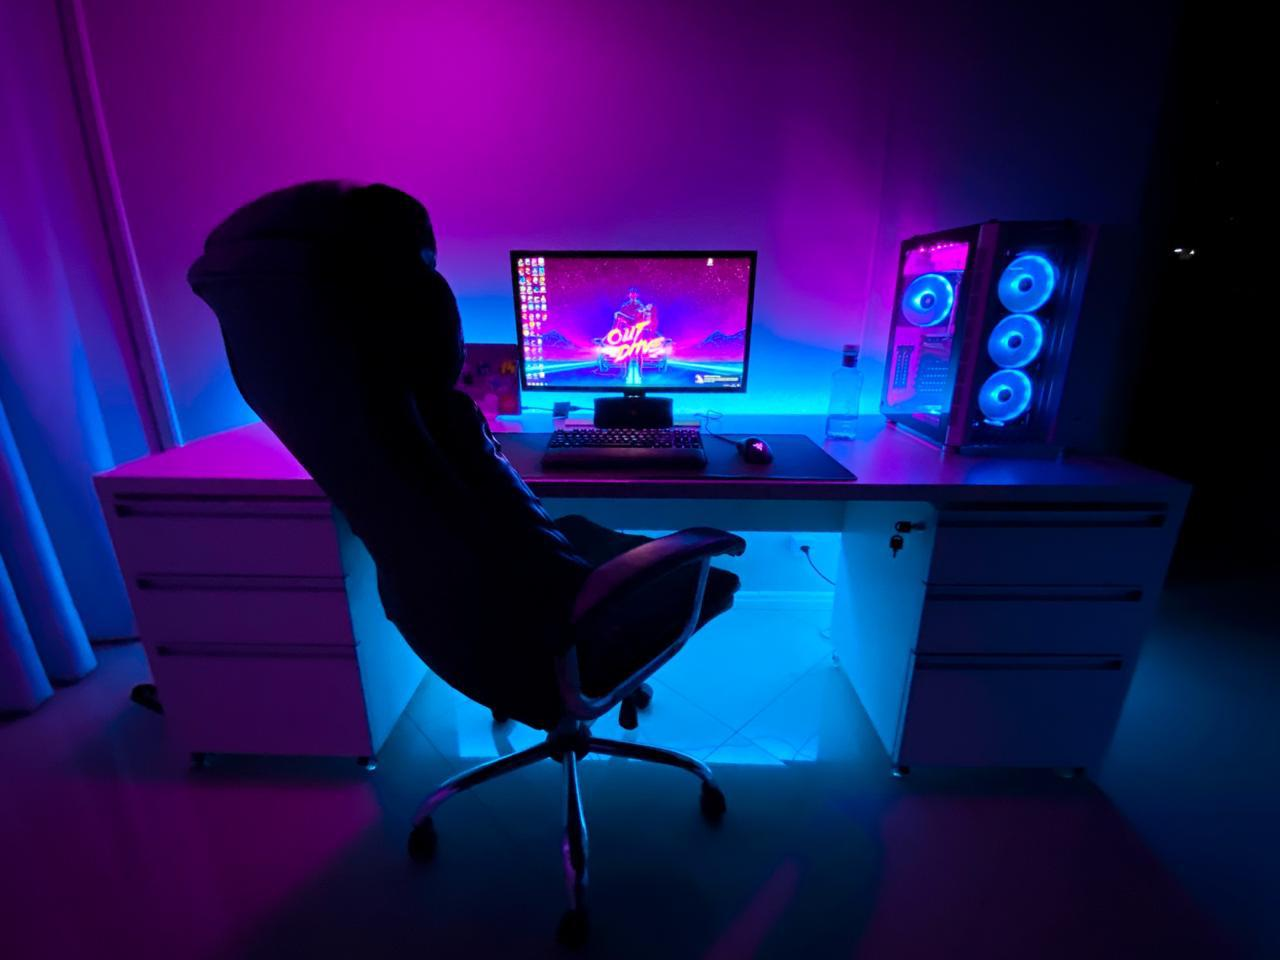Chair (Generic): (187, 174, 747, 944)
Desk (Generic): (94, 407, 1199, 795)
Desktop (Windows): (880, 220, 1096, 459)
Keyboard (Gaming): (538, 425, 706, 471)
Laptop (Generic): (424, 342, 524, 423)
Laptop Stand: (463, 394, 506, 419)
Monitor (Landscape): (506, 243, 748, 402)
Mouse (Gaming): (728, 425, 777, 464)
Mousepad (Gaming): (428, 430, 856, 490)
Storage Drawer: (830, 416, 1197, 791), (85, 415, 392, 795)
Water Bottle: (820, 343, 866, 439)
